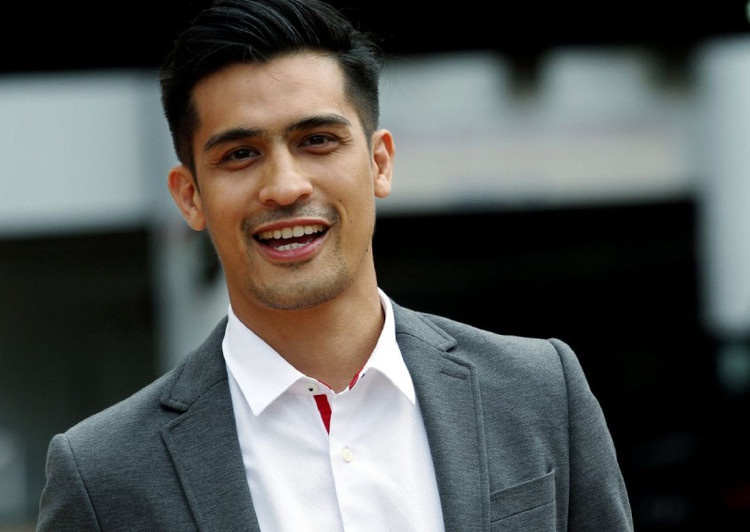bad: (180, 98, 366, 284)
